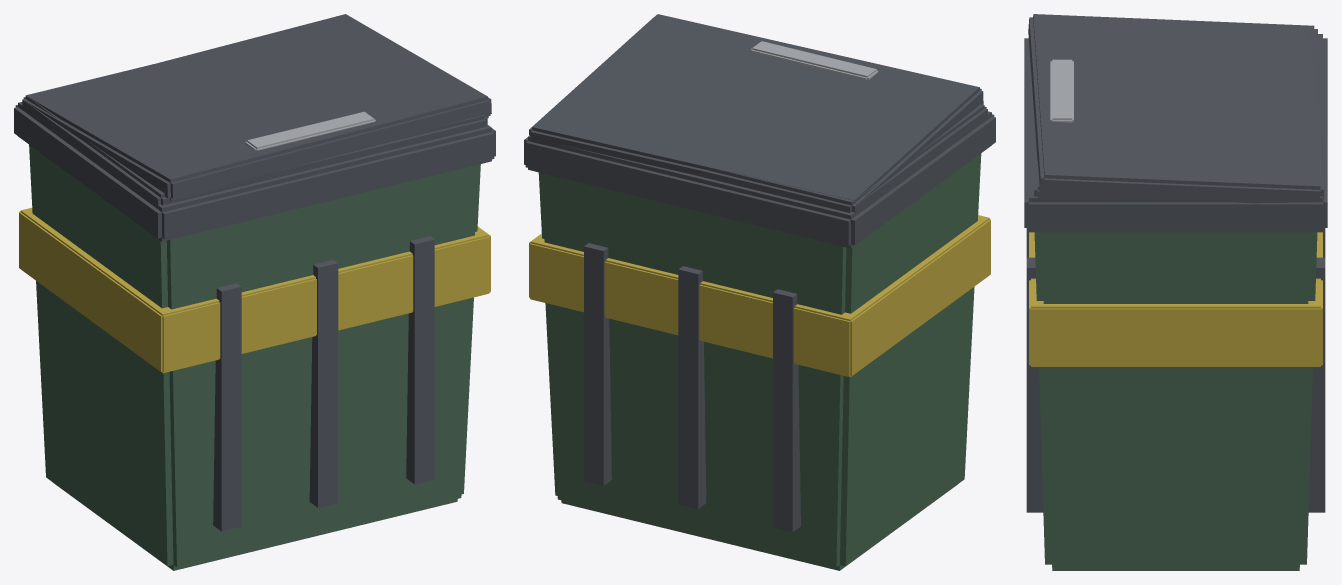
Rendered from bin_step_s.glb.
The picture shows the model from 3 angles, left to right: view 1: azimuth 30°, elevation 25°; view 2: azimuth 150°, elevation 25°; view 3: azimuth 270°, elevation 25°; orthographic projection. The views are drawn at different scales.
Parts seen in each view (by area): view 1: body.001, lid_plate.001, yellow_stripe.001, rim.001, rib.001, rib, rib.002, lid_plate.002, lid_handle; view 2: body.001, lid_plate.001, yellow_stripe.001, rim.001, rib.001, rib, rib.002, lid_plate.002, lid_handle; view 3: body.001, lid_plate.001, yellow_stripe.001, rim.001, rib.002, lid_handle, lid_plate.002.
Boxes of the visible parts, left/top/right/bottom form: body.001: left=29, top=144, right=480, bottom=570; lid_plate.001: left=25, top=14, right=491, bottom=200; yellow_stripe.001: left=19, top=207, right=490, bottom=373; rim.001: left=14, top=102, right=495, bottom=241; rib.001: left=309, top=259, right=338, bottom=507; rib: left=213, top=283, right=241, bottom=531; rib.002: left=406, top=236, right=434, bottom=484; lid_plate.002: left=22, top=65, right=487, bottom=208; lid_handle: left=245, top=111, right=375, bottom=150; body.001: left=538, top=153, right=981, bottom=570; lid_plate.001: left=529, top=14, right=983, bottom=204; yellow_stripe.001: left=529, top=215, right=990, bottom=377; rim.001: left=524, top=111, right=995, bottom=248; rib.001: left=678, top=266, right=706, bottom=508; rib: left=773, top=289, right=800, bottom=532; rib.002: left=584, top=243, right=611, bottom=485; lid_plate.002: left=694, top=104, right=987, bottom=216; lid_handle: left=750, top=41, right=878, bottom=80; body.001: left=1034, top=232, right=1317, bottom=570; lid_plate.001: left=1028, top=14, right=1324, bottom=203; yellow_stripe.001: left=1029, top=232, right=1322, bottom=366; rim.001: left=1024, top=34, right=1327, bottom=232; rib.002: left=1026, top=257, right=1325, bottom=512; lid_handle: left=1050, top=59, right=1073, bottom=122; lid_plate.002: left=1034, top=25, right=1317, bottom=202.
Size of what is drawn, in the model's own units: 0.8476 by 0.958 by 0.64.
